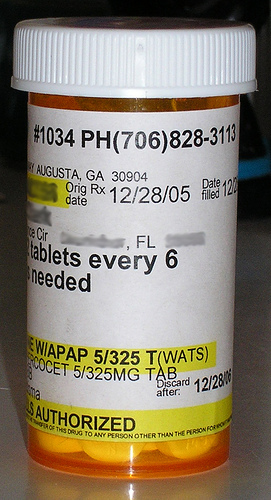pill bottle: (13, 16, 259, 481)
